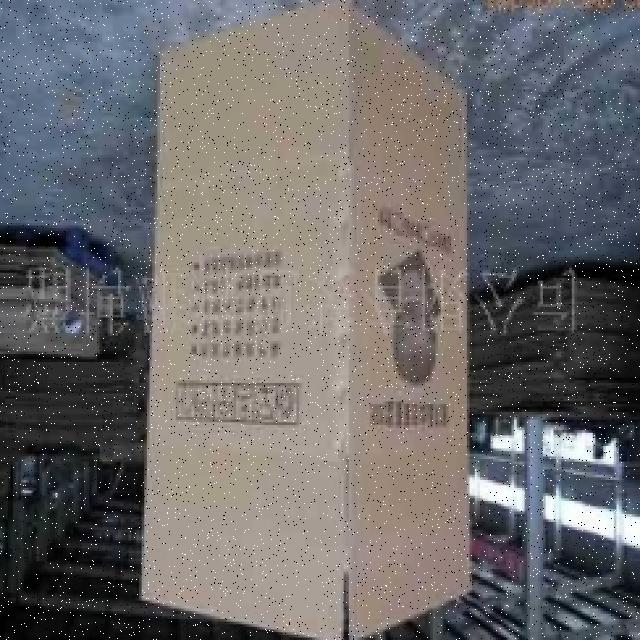box: (118, 13, 506, 628)
